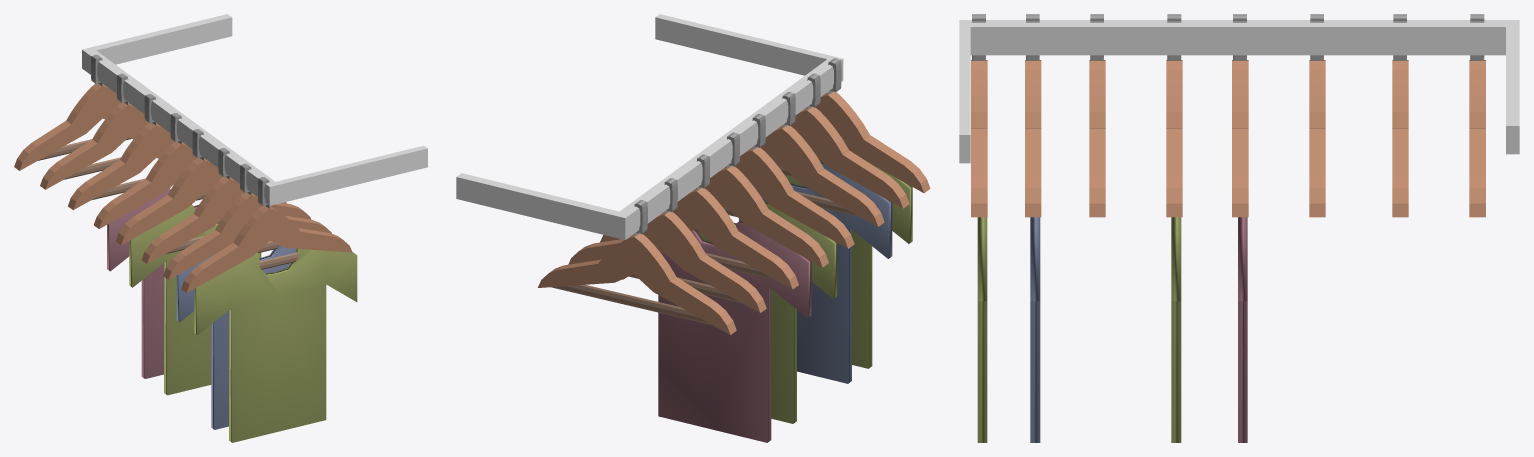
File: clothing rack.fbx
The picture shows the model from 3 angles, left to right: view 1: azimuth 30°, elevation 25°; view 2: azimuth 150°, elevation 25°; view 3: azimuth 270°, elevation 25°; orthographic projection. The views are drawn at different scales.
Visible parts, largest first — view 1: Cube.056, Cube.047, Cube.059, Cube.055, Cube.058, Cube.048, Cube.052, Cube.049, Cube.050, Cube.054, Cube.057, Cube.053 (+1 smaller); view 2: Cube.058, Cube.047, Cube.049, Cube.057, Cube.048, Cube.050, Cube.059, Cube.052, Cube.051, Cube.053, Cube.054, Cube.056 (+1 smaller); view 3: Cube.047, Cube.049, Cube.053, Cube.048, Cube.051, Cube.050, Cube.052, Cube.055, Cube.054, Cube.056, Cube.057, Cube.059 (+1 smaller).
Boxes of the visible parts, <box> form: Cube.056: <box>194,248,357,442</box>; Cube.047: <box>82,14,427,205</box>; Cube.059: <box>129,204,270,395</box>; Cube.055: <box>181,177,352,292</box>; Cube.058: <box>107,188,198,378</box>; Cube.048: <box>40,73,148,189</box>; Cube.052: <box>141,148,311,263</box>; Cube.049: <box>14,54,131,170</box>; Cube.050: <box>68,94,174,210</box>; Cube.054: <box>163,163,331,279</box>; Cube.057: <box>176,245,295,429</box>; Cube.053: <box>115,129,286,244</box>; Cube.058: <box>622,220,811,442</box>; Cube.047: <box>456,14,843,239</box>; Cube.049: <box>538,200,736,334</box>; Cube.057: <box>739,162,892,383</box>; Cube.048: <box>568,178,766,312</box>; Cube.050: <box>600,154,798,289</box>; Cube.059: <box>699,202,837,423</box>; Cube.052: <box>760,92,884,226</box>; Cube.051: <box>694,132,828,267</box>; Cube.053: <box>696,114,854,248</box>; Cube.054: <box>752,73,909,208</box>; Cube.056: <box>785,163,912,368</box>; Cube.047: <box>959,20,1519,163</box>; Cube.049: <box>1469,14,1485,217</box>; Cube.053: <box>1166,14,1182,217</box>; Cube.048: <box>1392,14,1408,217</box>; Cube.051: <box>1232,14,1248,217</box>; Cube.050: <box>1309,14,1325,217</box>; Cube.052: <box>1089,14,1105,217</box>; Cube.055: <box>971,14,987,217</box>; Cube.054: <box>1025,14,1041,217</box>; Cube.056: <box>977,217,987,442</box>; Cube.057: <box>1030,217,1040,442</box>; Cube.059: <box>1171,217,1181,442</box>.
Bounding box in the file's own units: 180 × 185 × 246.
